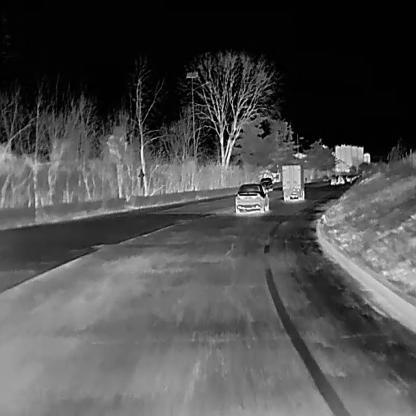car: (234, 182, 268, 213), (280, 163, 307, 201), (260, 176, 273, 192), (336, 175, 344, 185), (330, 176, 336, 185)
